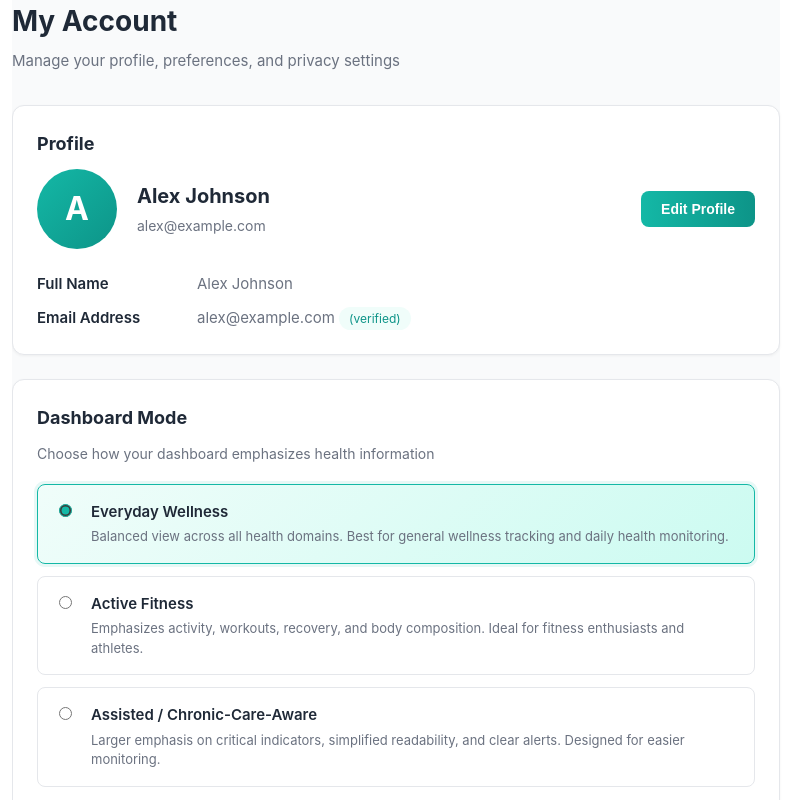
Test: MyAccountPage — edit profile form › shows the edit form when Edit Profile is clicked
Click the button "Edit Profile". click: x=698, y=208
box: [641, 190, 755, 226]
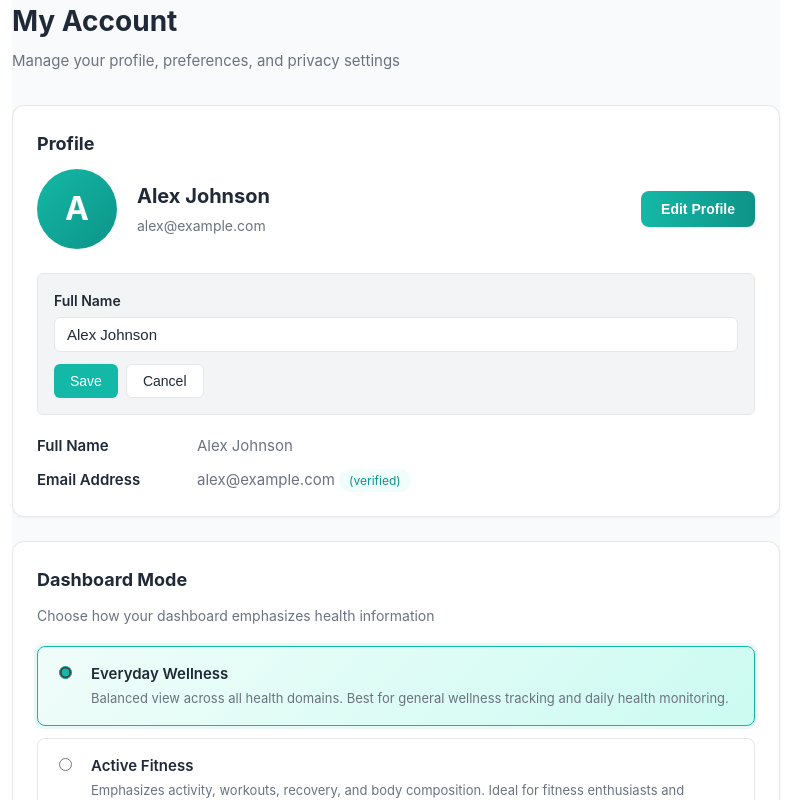
Check: the form named "Edit profile form" is shown, box [37, 272, 755, 414]
